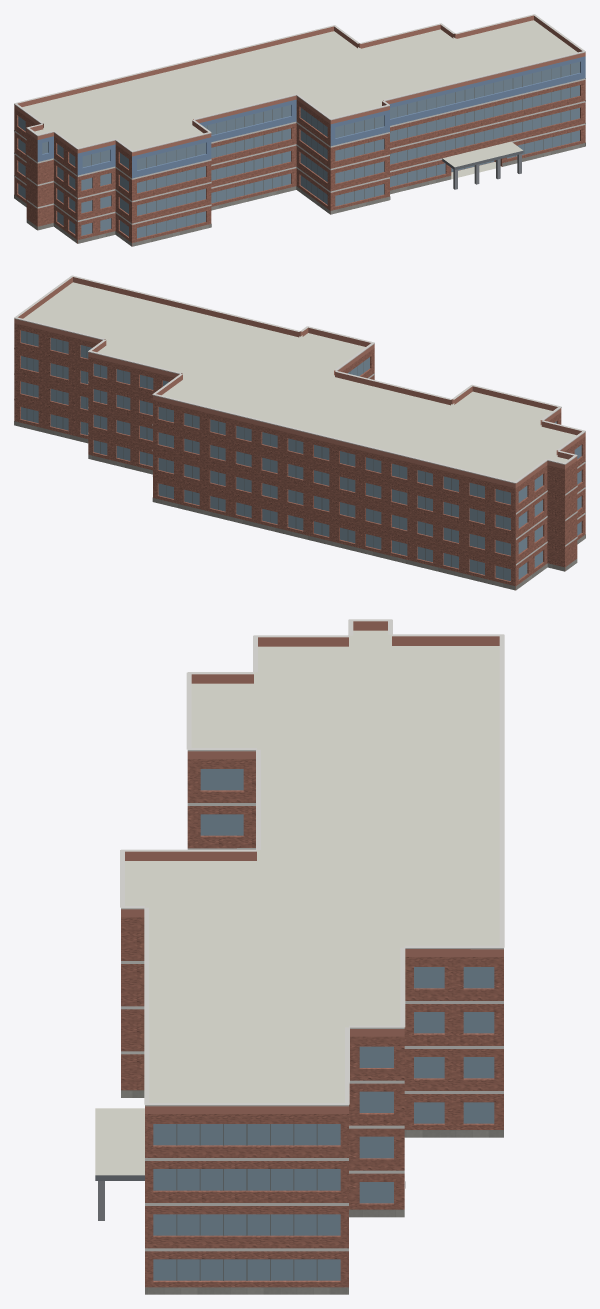
3 renders of one model, top to bottom at view 1: azimuth 30°, elevation 25°; view 2: azimuth 150°, elevation 25°; view 3: azimuth 270°, elevation 25°, orthographic. The views are drawn at different scales.
Visible parts, largest first — view 1: changgong__roof, changgong__wall, changgong__glass, changgong__wall2, changgong__trim, changgong__parapet, changgong__base, changgong__frame, changgong__column; view 2: changgong__wall, changgong__roof, changgong__glass, changgong__parapet, changgong__trim, changgong__base, changgong__frame; view 3: changgong__roof, changgong__wall, changgong__glass, changgong__trim, changgong__parapet, changgong__base, changgong__frame.
Boxes of the visible parts, x1=… form: changgong__roof: x1=22, y1=20, x2=577, y2=179; changgong__wall: x1=14, y1=80, x2=585, y2=246; changgong__glass: x1=18, y1=62, x2=579, y2=238; changgong__wall2: x1=37, y1=56, x2=585, y2=178; changgong__trim: x1=14, y1=14, x2=585, y2=224; changgong__parapet: x1=14, y1=15, x2=585, y2=156; changgong__base: x1=14, y1=143, x2=585, y2=246; changgong__frame: x1=91, y1=64, x2=571, y2=236; changgong__column: x1=453, y1=154, x2=521, y2=189; changgong__wall: x1=14, y1=323, x2=585, y2=589; changgong__roof: x1=23, y1=282, x2=576, y2=481; changgong__glass: x1=21, y1=330, x2=581, y2=581; changgong__parapet: x1=14, y1=277, x2=585, y2=488; changgong__trim: x1=14, y1=275, x2=585, y2=565; changgong__base: x1=14, y1=421, x2=585, y2=590; changgong__frame: x1=26, y1=332, x2=503, y2=579; changgong__roof: x1=95, y1=630, x2=499, y2=1175; changgong__wall: x1=121, y1=759, x2=503, y2=1287; changgong__glass: x1=153, y1=769, x2=494, y2=1280; changgong__trim: x1=120, y1=619, x2=504, y2=1251; changgong__parapet: x1=121, y1=621, x2=503, y2=1113; changgong__base: x1=121, y1=1090, x2=503, y2=1294; changgong__frame: x1=176, y1=1124, x2=317, y2=1280.
Bounding box in the file's own units: 83.16 × 15.17 × 29.62.
11 materials, 2 textured.
